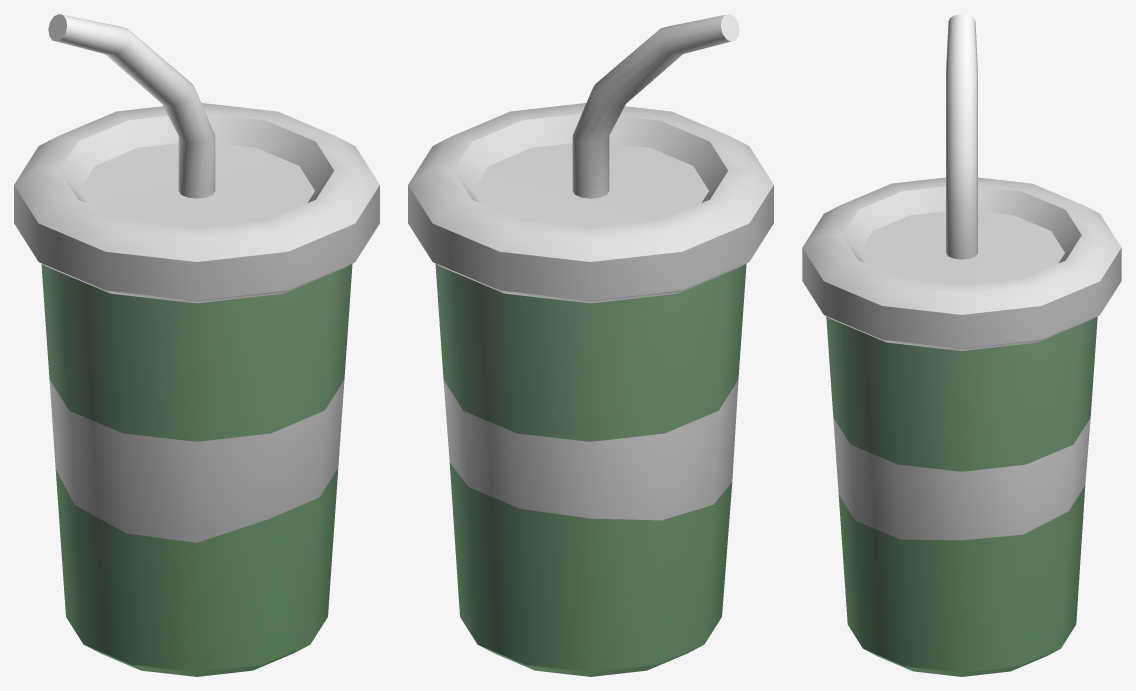
File: Juice Cup_7.fbx
3 renders of one model, left to right at view 1: azimuth 30°, elevation 25°; view 2: azimuth 150°, elevation 25°; view 3: azimuth 270°, elevation 25°, orthographic. The views are drawn at different scales.
Parts seen in each view (by area): view 1: Juice Cup_7, Juice Cup_7 Top; view 2: Juice Cup_7, Juice Cup_7 Top; view 3: Juice Cup_7, Juice Cup_7 Top.
Part boxes in pixels (x1,y1,x2,y2): Juice Cup_7: (41,264,352,676); Juice Cup_7 Top: (14,14,379,303); Juice Cup_7: (435,264,746,676); Juice Cup_7 Top: (408,14,773,303); Juice Cup_7: (826,316,1097,676); Juice Cup_7 Top: (802,14,1121,350).
Size of the model in its own units: 0.0776 by 0.1515 by 0.0776.
